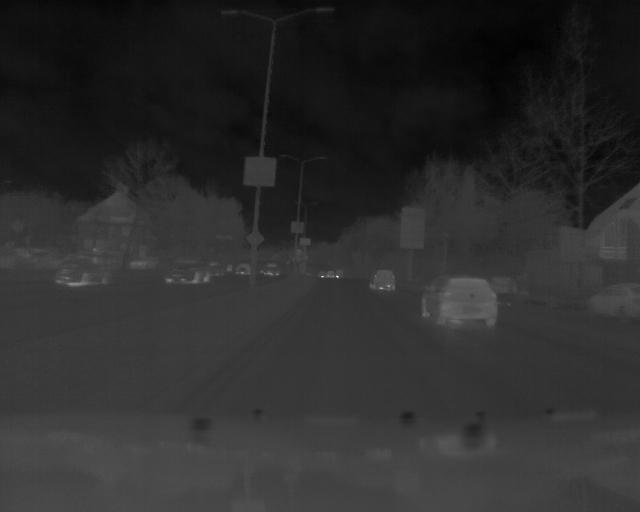car: (418, 273, 499, 328), (54, 257, 111, 288), (164, 262, 213, 283), (367, 269, 395, 290)
